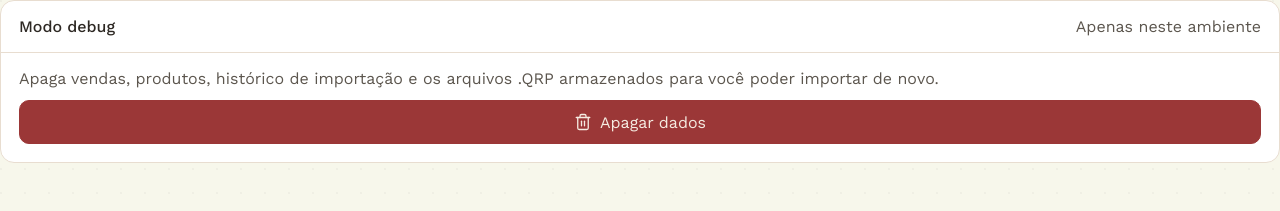
DebugResetPanel › confirms, resets, and can cancel
The image size is (1280, 211).
Expected: the heading "Modo debug" is shown, [19,17,115,36]
Click the button "Apagar dados" at (640, 122), box [19,100,1261,144]
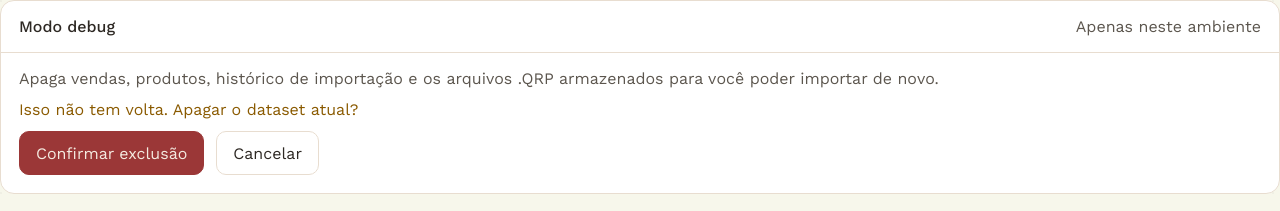
Expected: the text "Isso não tem volta. Apagar o dataset atual?" is shown, [19,100,358,119]
Click the button "Cancelar" at (268, 153), box [216,131,319,175]
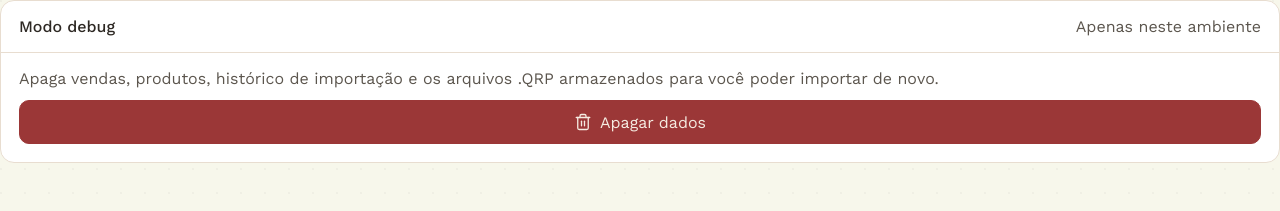
Expected: the text "Isso não tem volta" is gone
Click the button "Apagar dados" at (640, 122), box [19,100,1261,144]
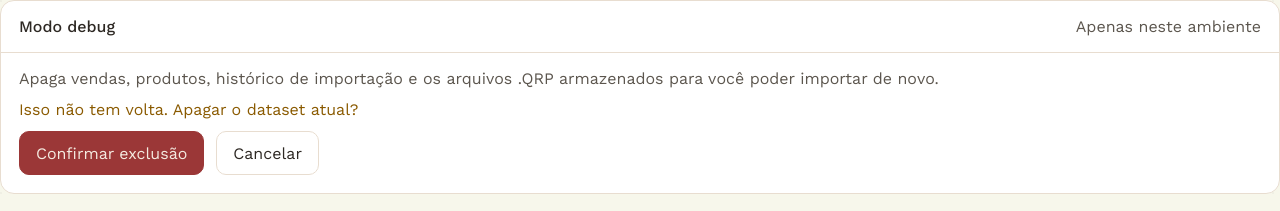
Click the button "Confirmar exclusão" at (112, 153), box [19,131,204,175]
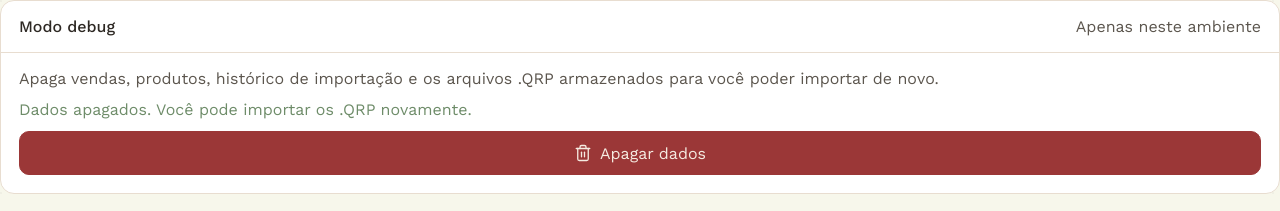
Expected: the text "Dados apagados. Você pode importar os .QRP novamente." is shown, [19,100,472,119]
